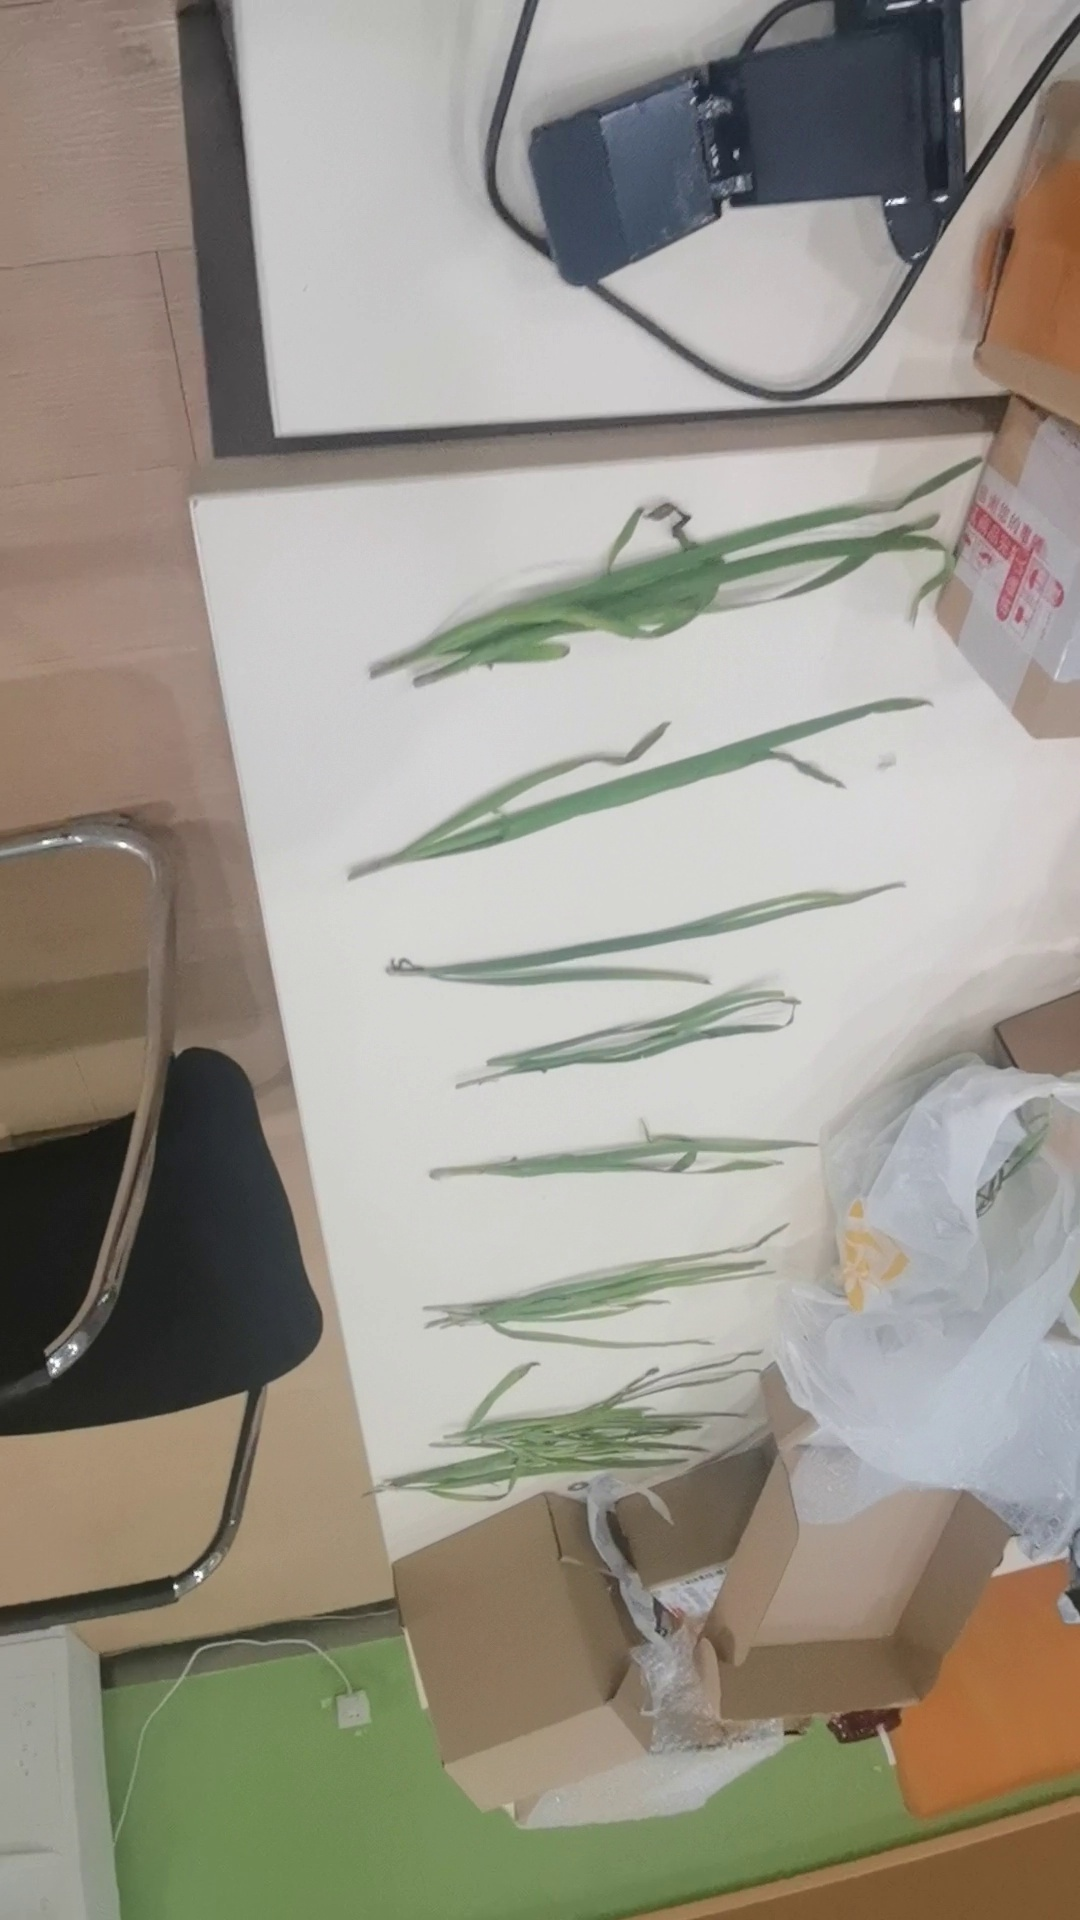chives: (318, 733, 1065, 905), (343, 541, 989, 711), (324, 874, 1015, 996), (389, 1378, 845, 1527), (407, 994, 955, 1109), (400, 1112, 953, 1215), (349, 1265, 943, 1353)
